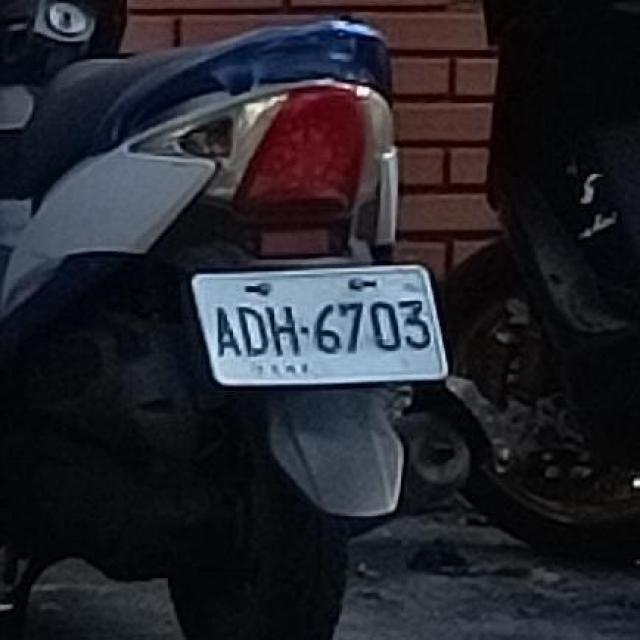W: (188, 252, 452, 400)
